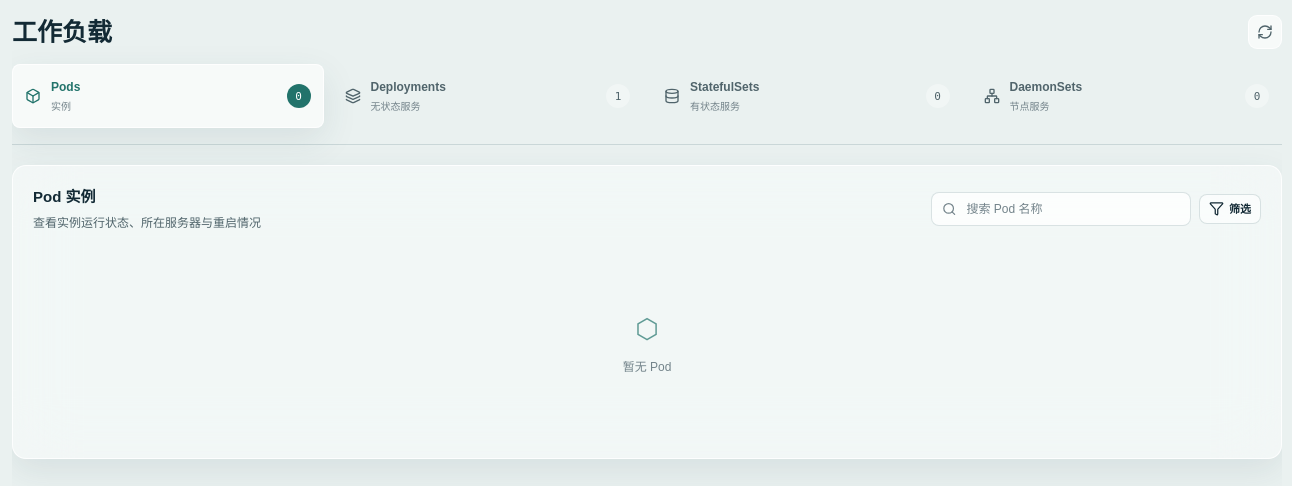
Workloads view › retains successful inventory regions when one refresh request fails
Click the button with class "resource-tab" showing "Deployments 无状态服务 1" at coordinates (408, 87), box [332,64,643,128]
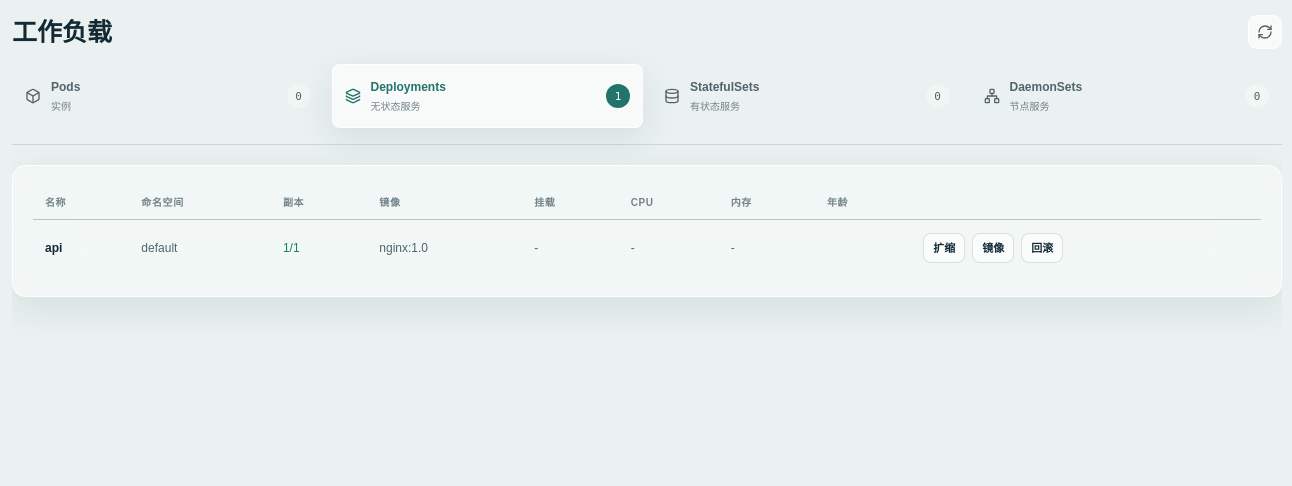
Now the text "api" is shown, box [33,220,129,276]
Click the button titled "刷新工作负载" at coordinates (1265, 32), box [1248,15,1282,49]
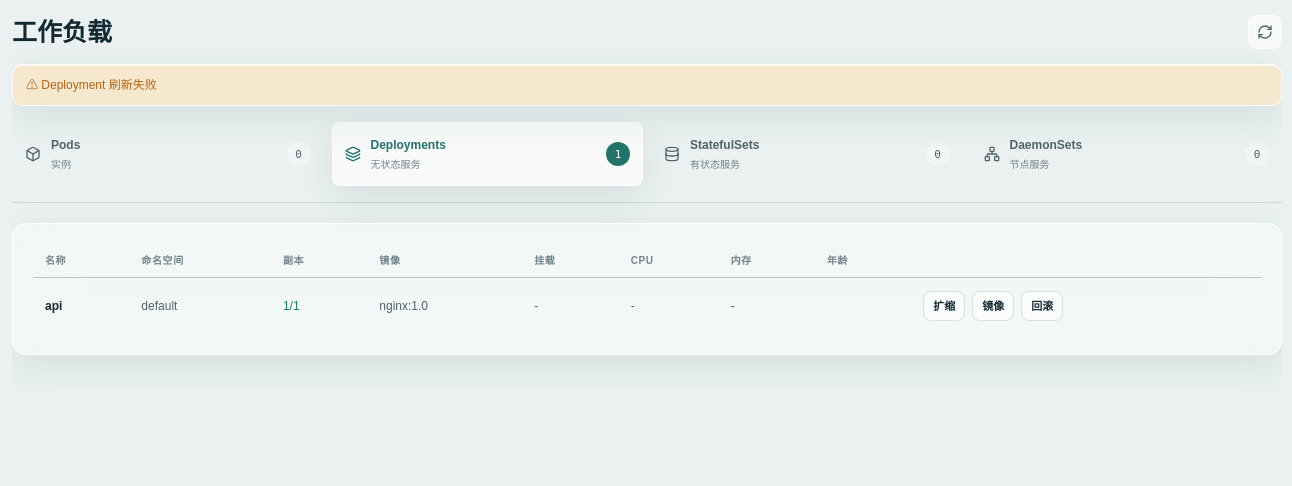
Now the text "api" is shown, box [33,278,129,334]
Now the text "Deployment 刷新失败" is shown, box [26,78,157,92]
